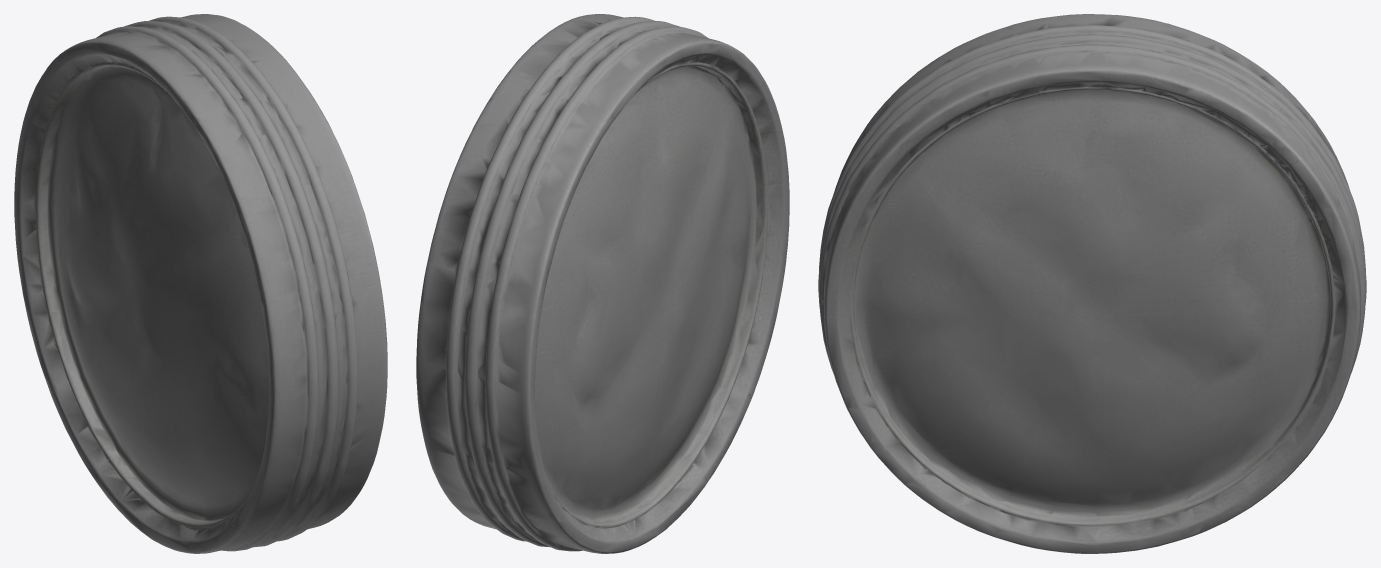
File: btn-background.glb
3 views of the same model, side by side, from view 1: azimuth 30°, elevation 25°; view 2: azimuth 150°, elevation 25°; view 3: azimuth 270°, elevation 25° (orthographic). The views are drawn at different scales.
Visible parts, largest first — view 1: tripo_node_7fce1d21-840d-43ab-9318-29332f93ae04; view 2: tripo_node_7fce1d21-840d-43ab-9318-29332f93ae04; view 3: tripo_node_7fce1d21-840d-43ab-9318-29332f93ae04.
Part boxes in pixels (x1=…): tripo_node_7fce1d21-840d-43ab-9318-29332f93ae04: x1=14, y1=14, x2=387, y2=553; tripo_node_7fce1d21-840d-43ab-9318-29332f93ae04: x1=416, y1=14, x2=789, y2=553; tripo_node_7fce1d21-840d-43ab-9318-29332f93ae04: x1=818, y1=14, x2=1366, y2=553.
Bounding box in the file's own units: 0.2809 × 0.9997 × 0.9992.
1 material, 1 textured.
